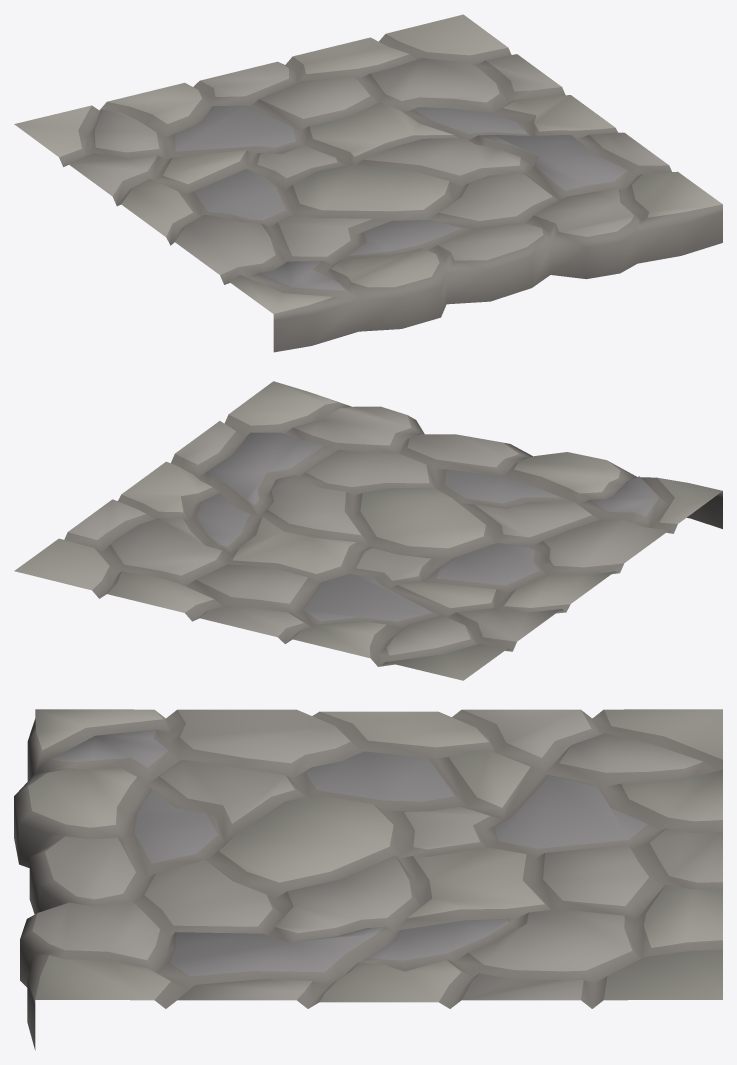
Rendered from rpgpp_ag_floor_03a_3x3_ext_01_middle.fbx.
The picture shows the model from 3 angles, top to bottom: view 1: azimuth 30°, elevation 25°; view 2: azimuth 150°, elevation 25°; view 3: azimuth 270°, elevation 25°; orthographic projection. The views are drawn at different scales.
Visible parts, largest first — view 1: rpgpp_ag_floor_03a_3x3_ext_01_middle; view 2: rpgpp_ag_floor_03a_3x3_ext_01_middle; view 3: rpgpp_ag_floor_03a_3x3_ext_01_middle.
Boxes of the visible parts, left/top/right/bottom form: rpgpp_ag_floor_03a_3x3_ext_01_middle: left=14, top=14, right=722, bottom=352; rpgpp_ag_floor_03a_3x3_ext_01_middle: left=14, top=381, right=722, bottom=680; rpgpp_ag_floor_03a_3x3_ext_01_middle: left=14, top=709, right=722, bottom=1050.
Size of the model in its own units: 3 by 0.245 by 3.09.
